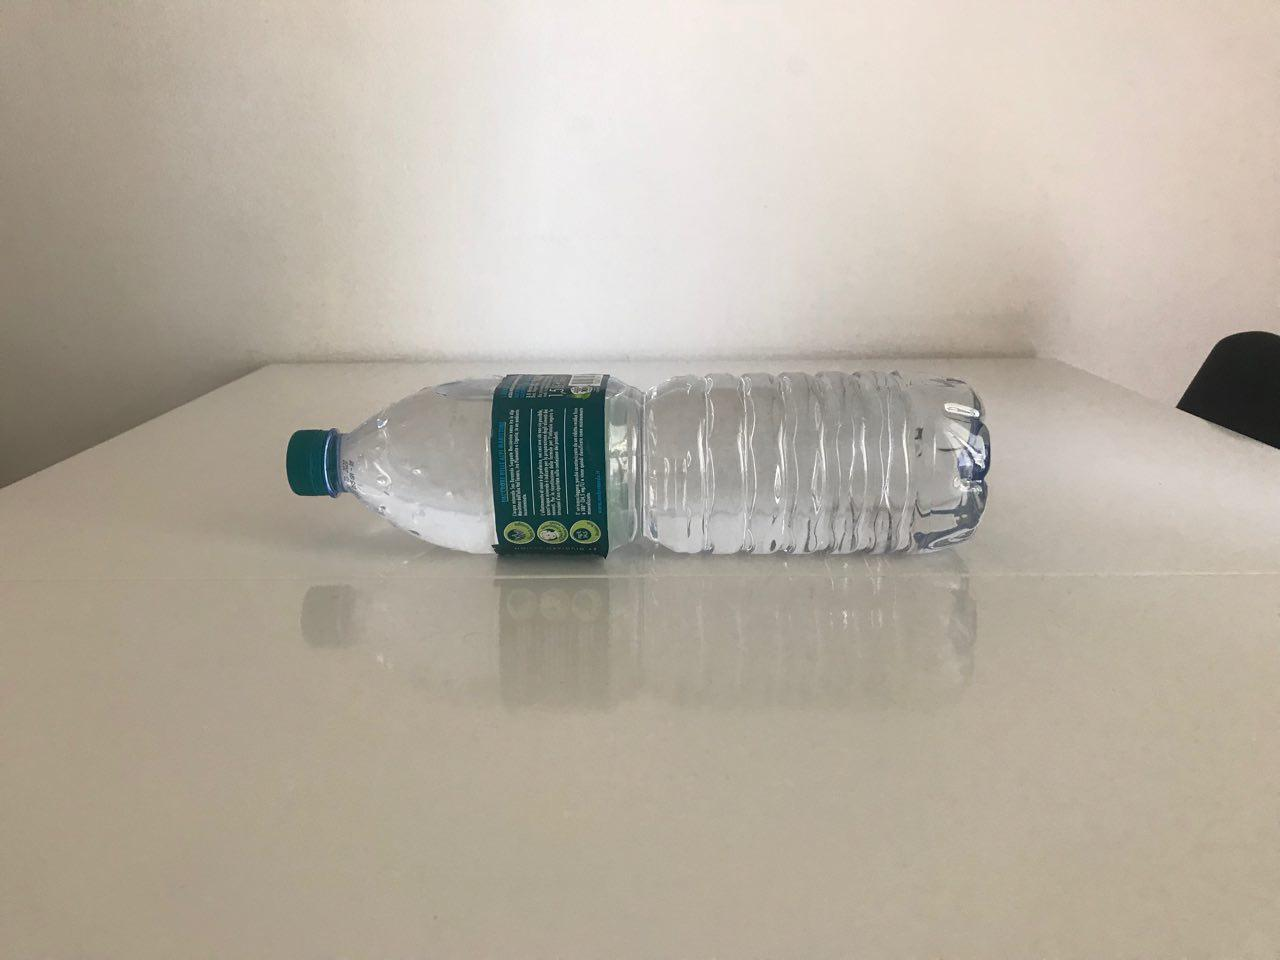san_bernardo: (284, 368, 994, 560)
